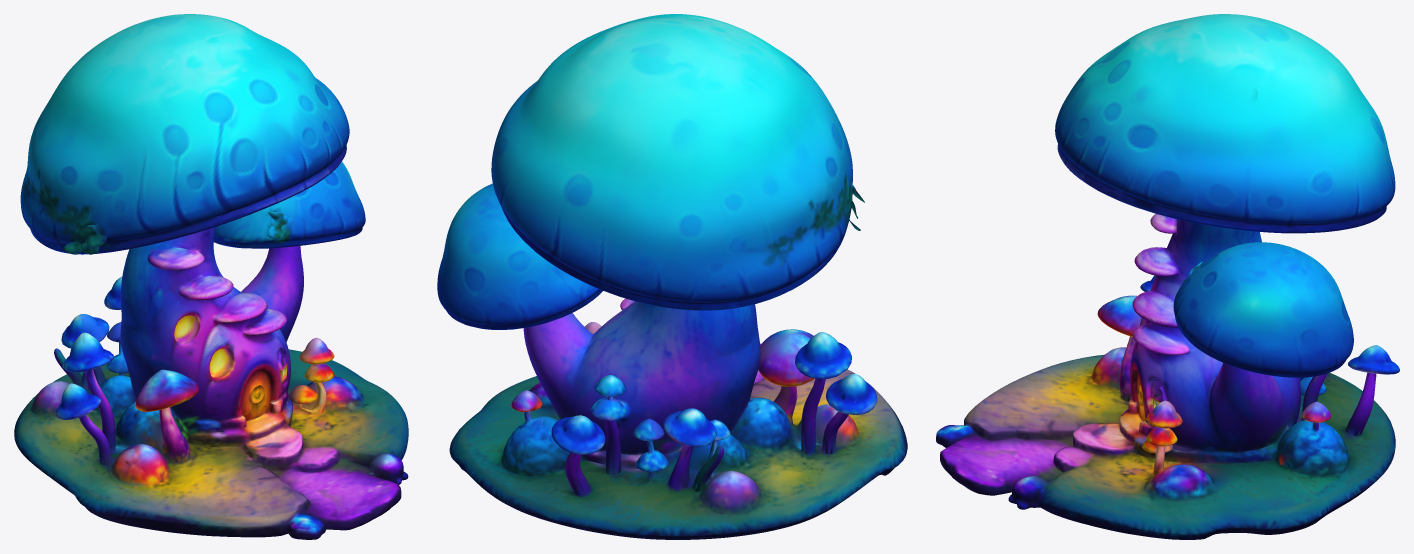
File: cavern.glb
3 renders of one model, left to right at view 1: azimuth 30°, elevation 25°; view 2: azimuth 150°, elevation 25°; view 3: azimuth 270°, elevation 25°, orthographic. The views are drawn at different scales.
Visible parts, largest first — view 1: node_0; view 2: node_0; view 3: node_0.
Part boxes in pixels (x1,y1,x2,y2): node_0: [14, 14, 408, 539]; node_0: [437, 14, 907, 539]; node_0: [936, 14, 1399, 539].
Bounding box in the file's own units: 0.7513 × 0.8519 × 0.8491.
1 material, 1 textured.
